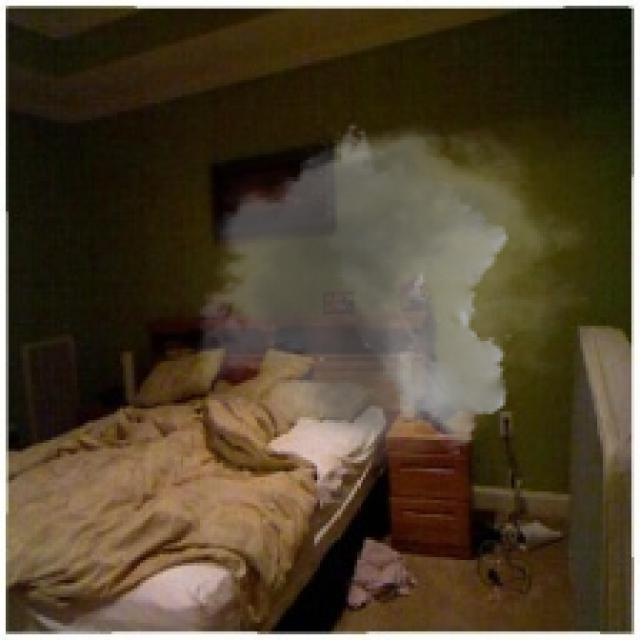Smoke: (177, 111, 592, 468)
